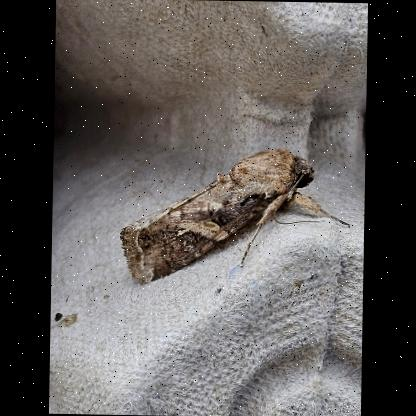Fall Armyworm Moth: (116, 140, 354, 292)
